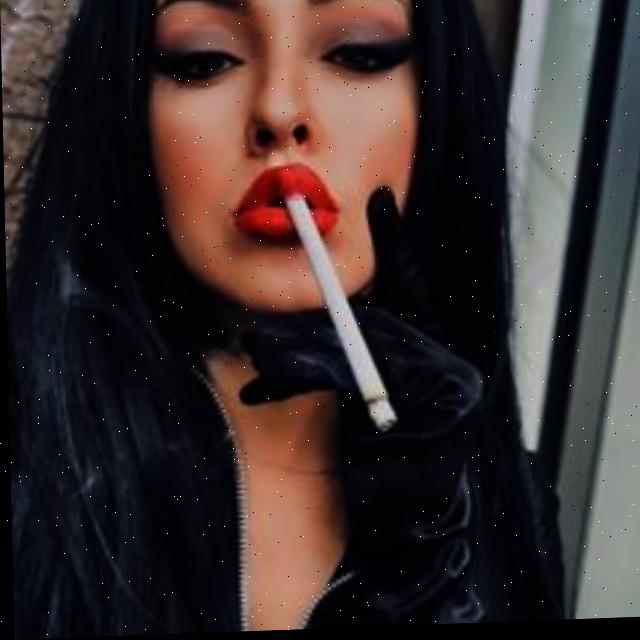cigarette: (286, 190, 396, 441)
